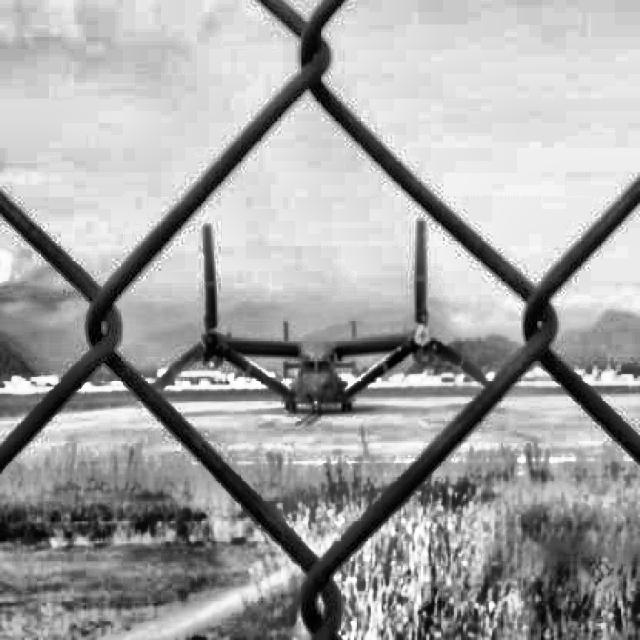V22: (150, 218, 492, 416)
